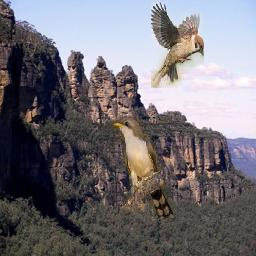Cuckoo: (112, 118, 175, 219)
Sparrow: (152, 2, 205, 88)
